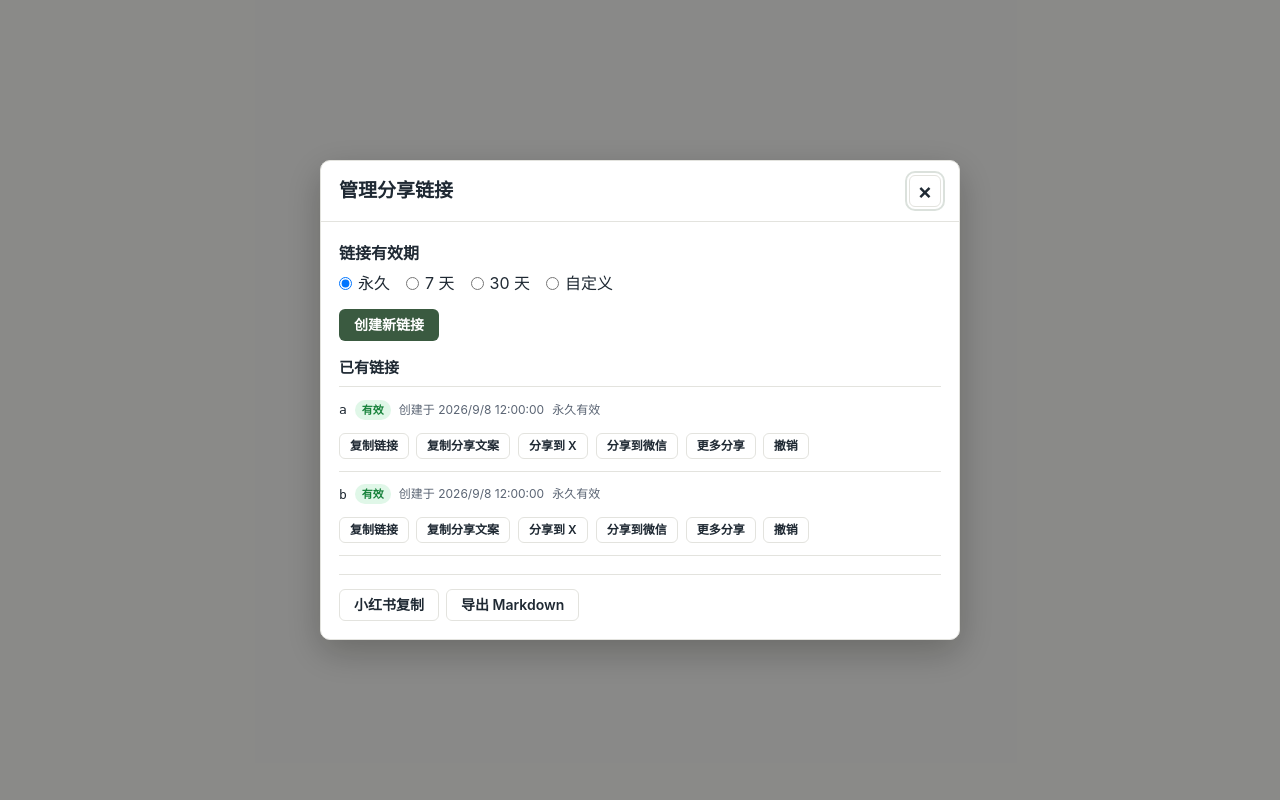
Test: ShareDialog › revokes only one row and prevents duplicate requests while it is pending
This screenshot has width=1280, height=800.
Double-click the 1st button "撤销" at (786, 446), box [763,433,809,459]
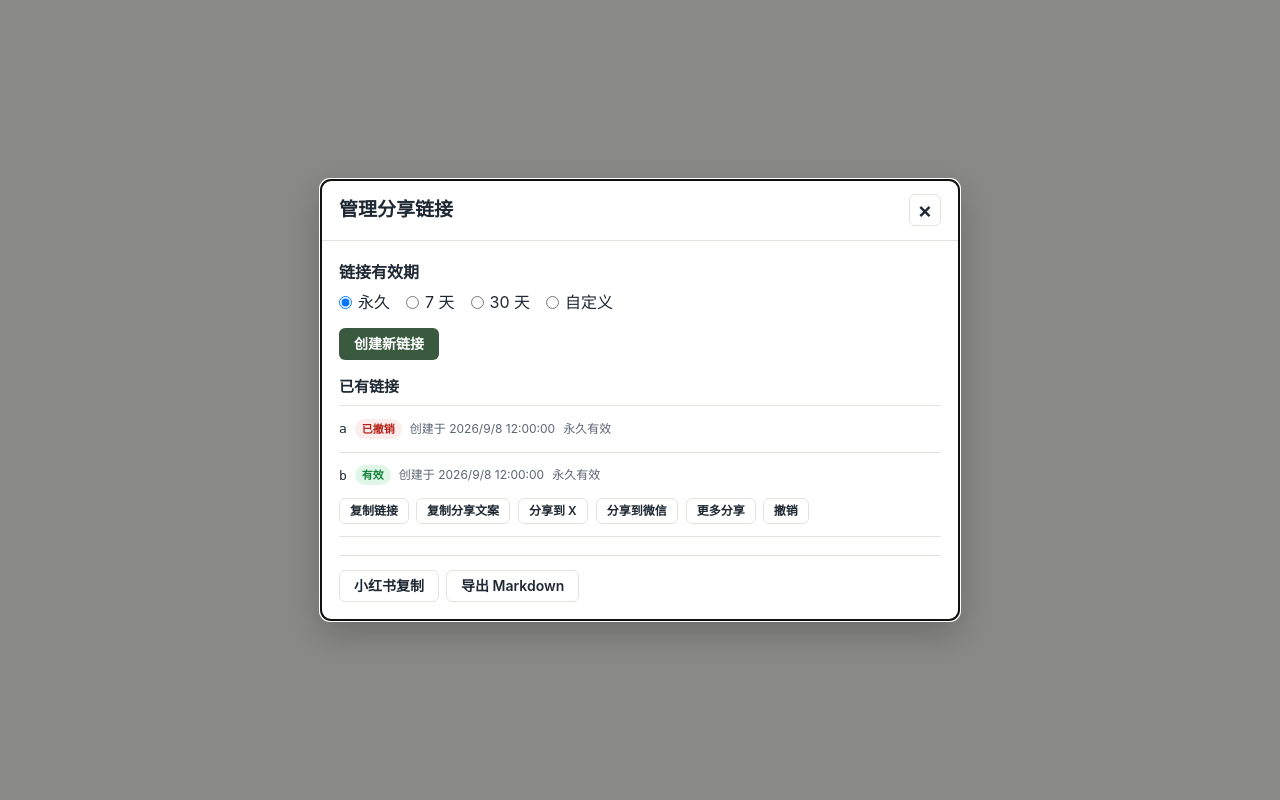
Expected: the text "b" is shown, [339,465,347,486]
Expected: the text "已撤销" is shown, [355,419,402,439]
Expected: the number of buttons "撤销" is 1, [763,498,809,524]
